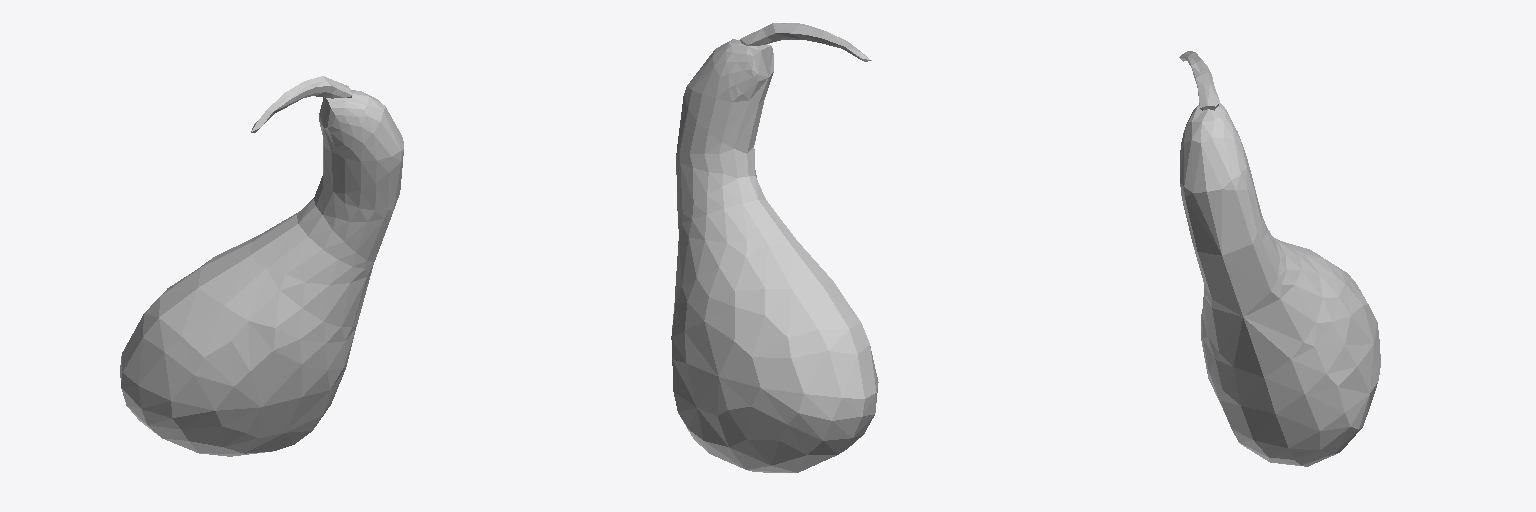
File: cow.obj
3 views of the same model, side by side, from view 1: azimuth 30°, elevation 25°; view 2: azimuth 150°, elevation 25°; view 3: azimuth 270°, elevation 25° (orthographic).
Visible parts, largest first — view 1: gourd; view 2: gourd; view 3: gourd.
Boxes of the visible parts, <box> form: gourd: <box>120,76,403,456</box>; gourd: <box>671,23,878,472</box>; gourd: <box>1179,51,1380,466</box>.
Bounding box in the file's own units: 1.91 × 3.18 × 1.44.